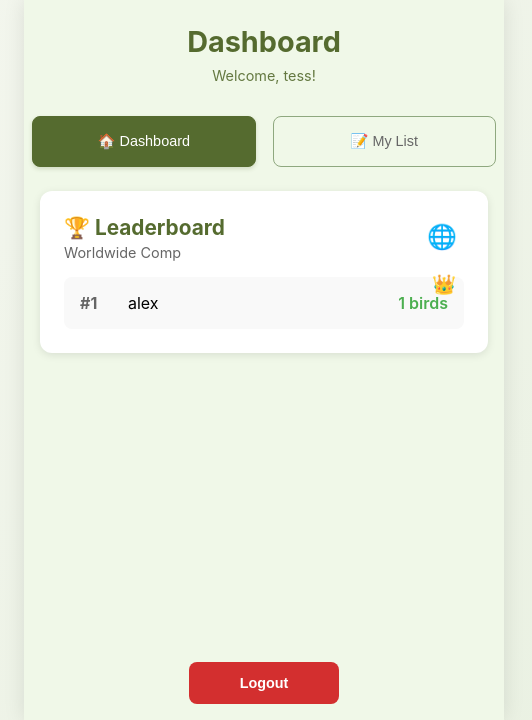
it: competition selection › scopes competitor profiles and omits info actions for birds without URLs
Click the button "#1 alex 1 birds 👑": (143, 303) [64,277,464,329]
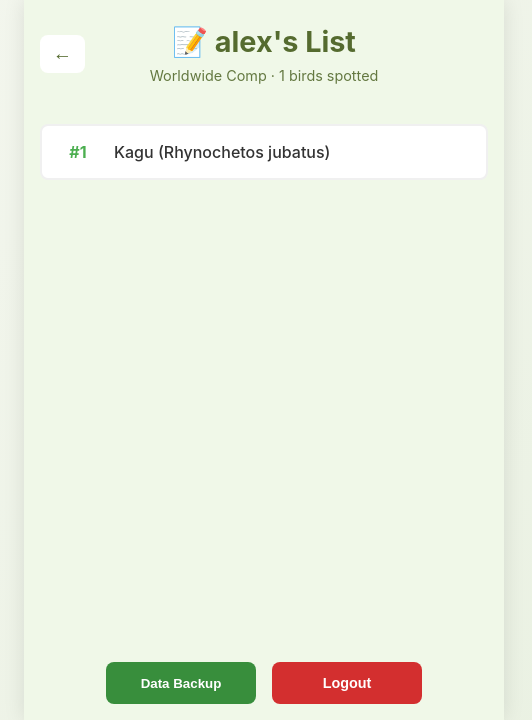
Now the text "Kagu (Rhynochetos jubatus)" is shown, box [114,142,330,162]
